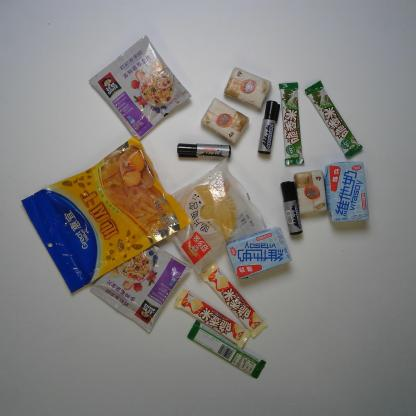Chocolate: (198, 260, 268, 338), (185, 319, 267, 381), (172, 287, 252, 350), (304, 79, 364, 158), (278, 81, 306, 168)
Dessert: (169, 156, 268, 276)
Dried Fruit: (20, 133, 194, 294)
Instant Drink: (88, 34, 193, 141), (89, 243, 193, 334)
Milk: (224, 224, 293, 280), (323, 160, 369, 224)
Stationery: (257, 99, 281, 156), (280, 180, 304, 237), (176, 142, 232, 160)
Tissue: (200, 96, 250, 145), (223, 66, 272, 112), (293, 168, 329, 216)
